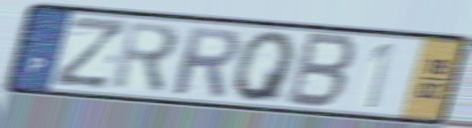1: (365, 41, 397, 110)
B: (281, 30, 361, 112)
Q: (231, 29, 300, 104)
R: (108, 19, 183, 97), (170, 24, 242, 99)
Z: (49, 14, 131, 91)
